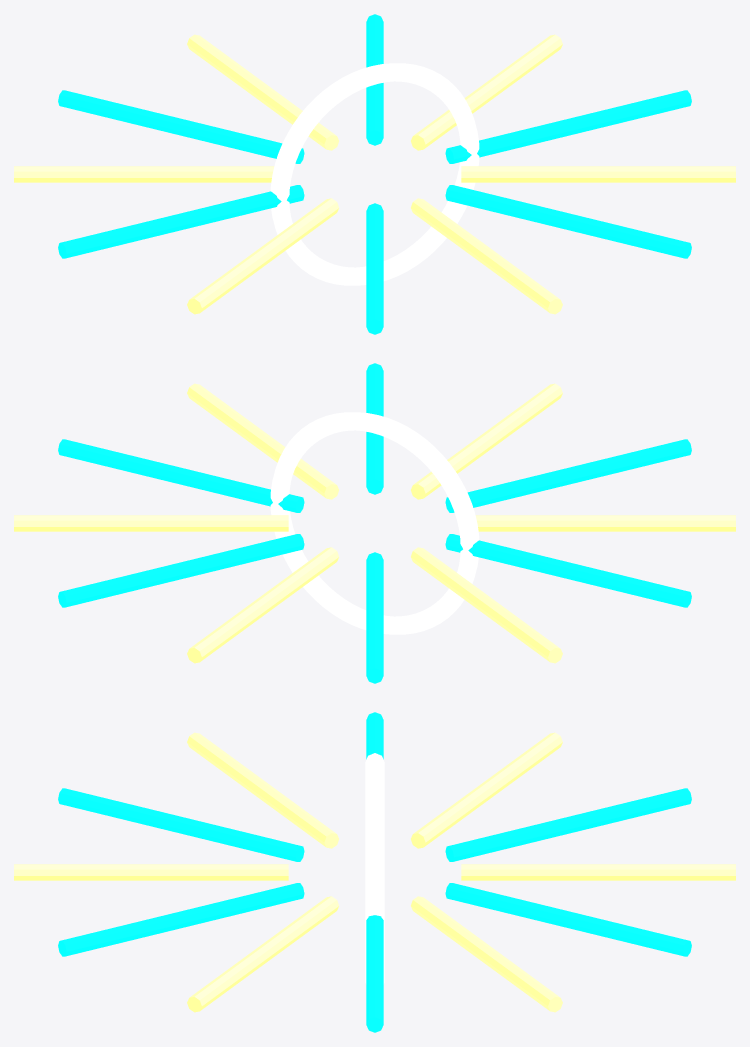
Rendered from star_pulse.glb.
The picture shows the model from 3 angles, top to bottom: view 1: azimuth 30°, elevation 25°; view 2: azimuth 150°, elevation 25°; view 3: azimuth 270°, elevation 25°; orthographic projection.
Visible parts, largest first — view 1: StarPulseWhiteCenterRing, StarPulseRay11, StarPulseRay5, StarPulseRay10, StarPulseRay0, StarPulseRay6, StarPulseRay4, StarPulseRay7, StarPulseRay9, StarPulseRay1, StarPulseRay3, StarPulseRay8 (+1 smaller); view 2: StarPulseWhiteCenterRing, StarPulseRay1, StarPulseRay7, StarPulseRay2, StarPulseRay0, StarPulseRay6, StarPulseRay8, StarPulseRay3, StarPulseRay5, StarPulseRay11, StarPulseRay9, StarPulseRay4 (+1 smaller); view 3: StarPulseRay3, StarPulseRay9, StarPulseRay10, StarPulseRay2, StarPulseRay4, StarPulseRay8, StarPulseWhiteCenterRing, StarPulseRay1, StarPulseRay11, StarPulseRay5, StarPulseRay7, StarPulseRay0 (+1 smaller).
Part boxes in pixels (x1=…): StarPulseWhiteCenterRing: x1=270, y1=63, x2=479, y2=285; StarPulseRay11: x1=461, y1=166, x2=735, y2=182; StarPulseRay5: x1=14, y1=166, x2=274, y2=182; StarPulseRay10: x1=445, y1=185, x2=691, y2=258; StarPulseRay0: x1=445, y1=90, x2=691, y2=163; StarPulseRay6: x1=58, y1=185, x2=304, y2=258; StarPulseRay4: x1=58, y1=90, x2=304, y2=163; StarPulseRay7: x1=187, y1=198, x2=338, y2=314; StarPulseRay9: x1=411, y1=198, x2=562, y2=314; StarPulseRay1: x1=411, y1=34, x2=562, y2=150; StarPulseRay3: x1=187, y1=34, x2=338, y2=150; StarPulseRay8: x1=366, y1=203, x2=383, y2=334; StarPulseWhiteCenterRing: x1=270, y1=412, x2=479, y2=634; StarPulseRay1: x1=14, y1=515, x2=288, y2=531; StarPulseRay7: x1=475, y1=515, x2=735, y2=531; StarPulseRay2: x1=58, y1=534, x2=304, y2=607; StarPulseRay0: x1=58, y1=439, x2=304, y2=512; StarPulseRay6: x1=445, y1=534, x2=691, y2=607; StarPulseRay8: x1=445, y1=439, x2=691, y2=512; StarPulseRay3: x1=187, y1=547, x2=338, y2=663; StarPulseRay5: x1=411, y1=547, x2=562, y2=663; StarPulseRay11: x1=187, y1=383, x2=338, y2=499; StarPulseRay9: x1=411, y1=383, x2=562, y2=499; StarPulseRay4: x1=366, y1=552, x2=383, y2=683; StarPulseRay3: x1=461, y1=864, x2=735, y2=880; StarPulseRay9: x1=14, y1=864, x2=288, y2=880; StarPulseRay10: x1=58, y1=883, x2=304, y2=956; StarPulseRay2: x1=445, y1=883, x2=691, y2=956; StarPulseRay4: x1=445, y1=788, x2=691, y2=861; StarPulseRay8: x1=58, y1=788, x2=304, y2=861; StarPulseWhiteCenterRing: x1=365, y1=753, x2=384, y2=984; StarPulseRay1: x1=411, y1=896, x2=562, y2=1012; StarPulseRay11: x1=187, y1=896, x2=338, y2=1012; StarPulseRay5: x1=411, y1=732, x2=562, y2=848; StarPulseRay7: x1=187, y1=732, x2=338, y2=848; StarPulseRay0: x1=366, y1=915, x2=383, y2=1032.
Size of the model in its own units: 1.95 by 0.6466 by 1.95.
